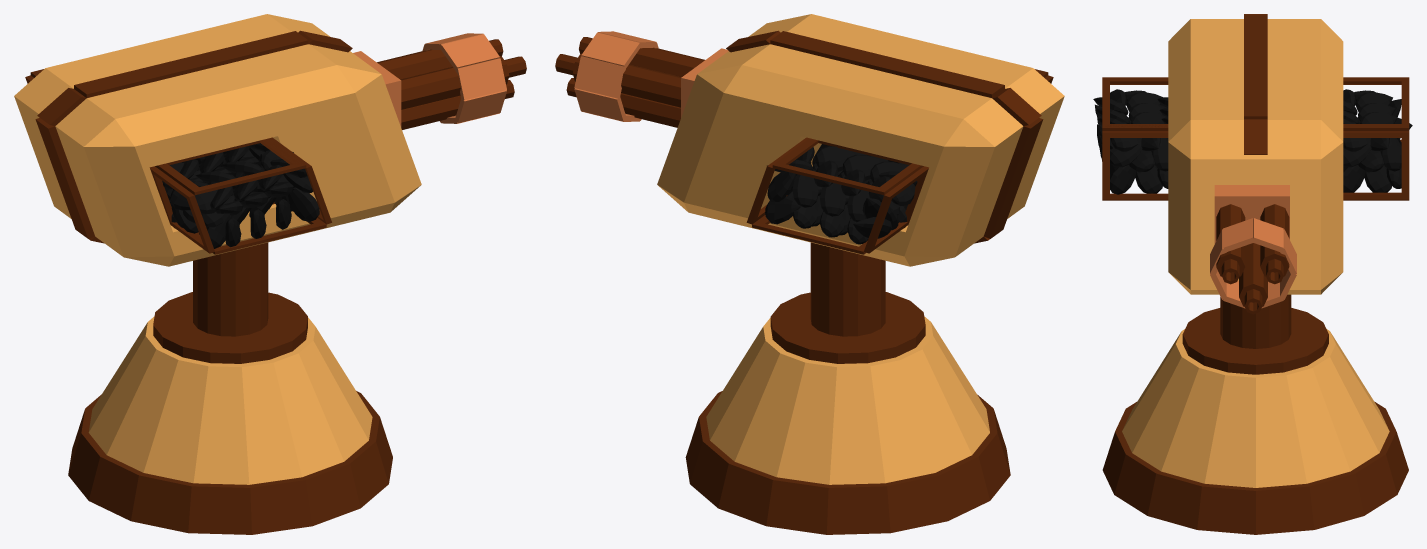
The model's file is cekirdekatarv2.fbx.
3 views of the same model, side by side, from view 1: azimuth 30°, elevation 25°; view 2: azimuth 150°, elevation 25°; view 3: azimuth 270°, elevation 25° (orthographic). The views are drawn at different scales.
Visible parts, largest first — view 1: Cube.042, parentli kurdanatar.005, Cylinder.015; view 2: Cube.042, parentli kurdanatar.005, Cylinder.015; view 3: Cube.042, parentli kurdanatar.005, Cylinder.015.
Boxes of the visible parts, x1=… form: Cube.042: x1=14, y1=14, x2=421, y2=266; parentli kurdanatar.005: x1=68, y1=242, x2=392, y2=534; Cylinder.015: x1=377, y1=33, x2=526, y2=129; Cube.042: x1=657, y1=14, x2=1064, y2=266; parentli kurdanatar.005: x1=685, y1=242, x2=1010, y2=534; Cylinder.015: x1=555, y1=31, x2=704, y2=127; Cube.042: x1=1093, y1=14, x2=1412, y2=294; parentli kurdanatar.005: x1=1102, y1=294, x2=1408, y2=534; Cylinder.015: x1=1210, y1=204, x2=1296, y2=314.
Size of the model in its own units: 329 by 278 by 209.
Materials: 4 (4 with a texture image).
